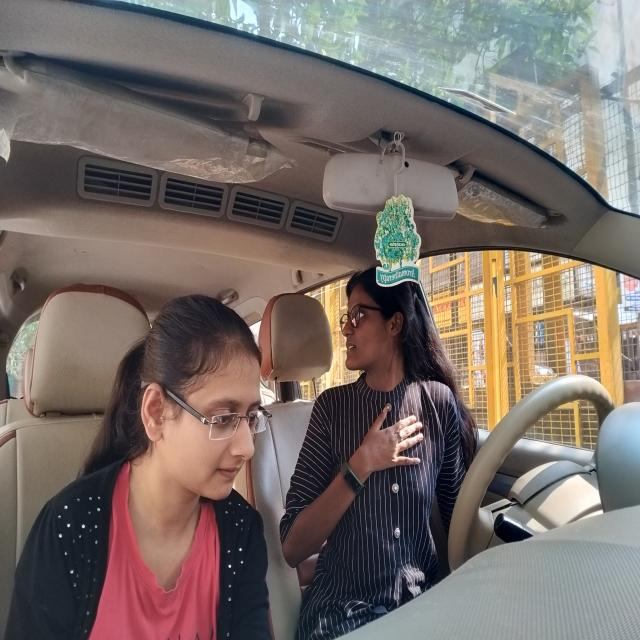LeftRight: (339, 258, 437, 373)
person: (140, 299, 263, 522)
